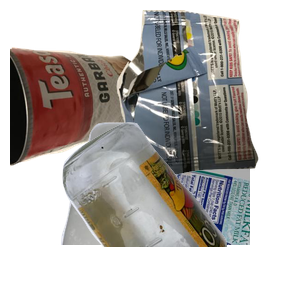glass: (60, 120, 300, 300)
metal: (10, 44, 151, 203)
plastic: (58, 120, 298, 300)
trash: (114, 10, 300, 180)
